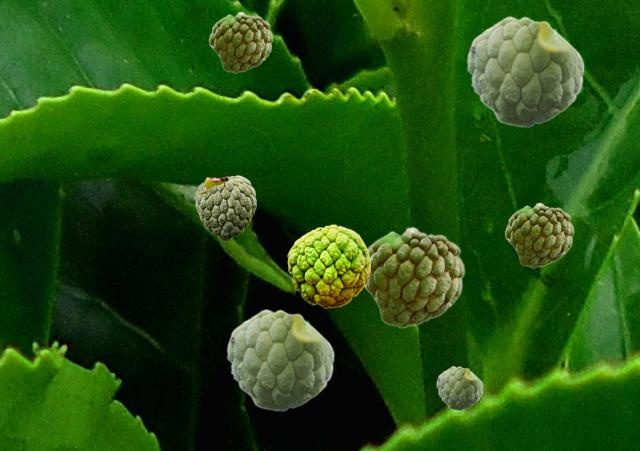atis: (466, 16, 584, 126), (226, 309, 334, 410), (364, 226, 464, 327), (287, 224, 369, 307), (504, 202, 573, 267), (194, 175, 255, 240), (208, 11, 272, 72), (436, 366, 482, 409)
